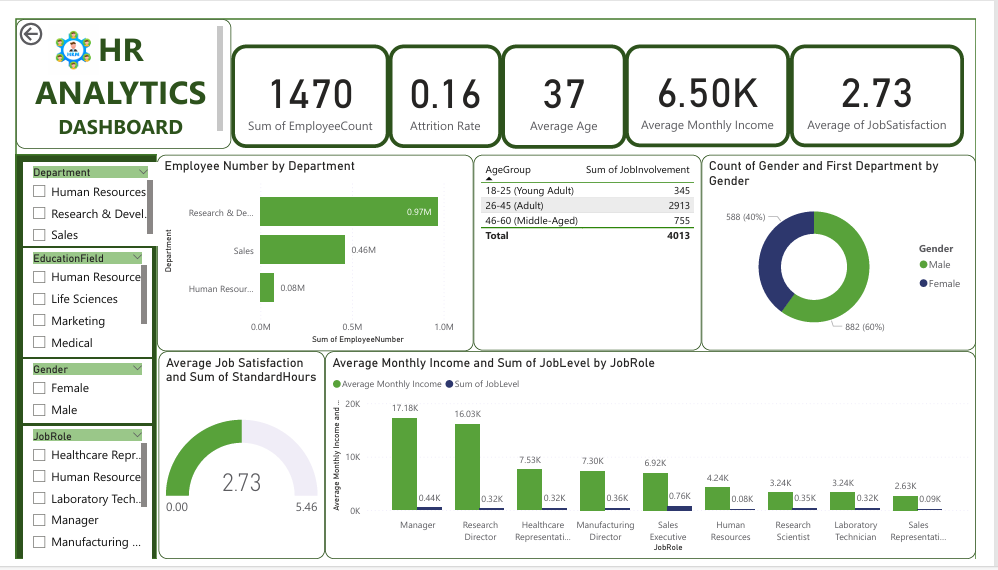

The dashboard page shown, as its layout file describes it:
{"tool":"powerbi","page":{"name":"Page 1","canvas":[1280,720],"ordinal":0},"visuals":[{"type":"shape","box":[0,0,1280,720.6],"z":0},{"type":"card","fields":{"Values":["Sum(HR Analytics Data.EmployeeCount)"]},"box":[287,34,211,138],"z":1000},{"type":"tableEx","title":"Job Involvement by AgeGroup","fields":{"Values":["HR Analytics Data.AgeGroup","Sum(HR Analytics Data.JobInvolvement)"]},"box":[609.8,181.4,304,261],"z":2000},{"type":"card","fields":{"Values":["Avg(HR Analytics Data.Age)"]},"box":[646.8,33.7,166.8,139],"z":3000},{"type":"card","fields":{"Values":["Avg(HR Analytics Data.JobSatisfaction)"]},"box":[1031.7,33.7,232.7,137.6],"z":4000},{"type":"card","fields":{"Values":["HR Analytics Data.Attrition Rate"]},"box":[497,34,151,138],"z":5000},{"type":"barChart","title":"Employee Number by Department","fields":{"Category":["HR Analytics Data.Department"],"Y":["Sum(HR Analytics Data.EmployeeNumber)"]},"box":[188.3,181.4,421.7,261.7],"z":6000},{"type":"donutChart","fields":{"Category":["HR Analytics Data.Gender"],"Y":["CountNonNull(HR Analytics Data.Gender)"]},"box":[913.8,181.4,366.2,261],"z":7000},{"type":"card","fields":{"Values":["HR Analytics Data.Average Monthly Income"]},"box":[812.2,33.7,219.5,137.6],"z":8000},{"type":"clusteredColumnChart","fields":{"Y":["HR Analytics Data.Average Monthly Income","Sum(HR Analytics Data.JobLevel)"],"Category":["HR Analytics Data.JobRole"]},"box":[411.7,443.3,868.3,276.7],"z":9000},{"type":"gauge","fields":{"Y":["HR Analytics Data.Average Job Satisfaction"]},"box":[190,443.3,221.7,276.7],"z":10000},{"type":"shape","box":[0,181.4,188.3,538.3],"z":11000},{"type":"textbox","box":[0,0,287.1,172.9],"z":12000},{"type":"image","box":[37.5,0,77.5,82.5],"z":13000},{"type":"slicer","fields":{"Values":["HR Analytics Data.Department"]},"box":[10.2,191.7,178.5,111.2],"z":14000},{"type":"slicer","fields":{"Values":["HR Analytics Data.EducationField"]},"box":[10.2,305.9,171.2,144.9],"z":15000},{"type":"slicer","fields":{"Values":["HR Analytics Data.Gender"]},"box":[10,453.8,171.2,85],"z":16000},{"type":"slicer","fields":{"Values":["HR Analytics Data.JobRole"]},"box":[10,542.5,171.2,177.5],"z":17000},{"type":"actionButton","box":[0,0,100,40],"z":19000}]}

Visuals, with their boxes in screenshot pixels (x1, y1, x2, y2), scaled from the page's 1280x720 canvas onto the 998x570 screenshot:
shape: BBox(0, 0, 997, 569)
card - Sum(HR Analytics Data.EmployeeCount): BBox(224, 27, 388, 136)
"Job Involvement by AgeGroup" tableEx: BBox(475, 144, 712, 350)
card - Avg(HR Analytics Data.Age): BBox(504, 27, 634, 137)
card - Avg(HR Analytics Data.JobSatisfaction): BBox(804, 27, 986, 136)
card - HR Analytics Data.Attrition Rate: BBox(388, 27, 505, 136)
"Employee Number by Department" barChart: BBox(147, 144, 476, 351)
donutChart - HR Analytics Data.Gender x CountNonNull(HR Analytics Data.Gender): BBox(712, 144, 997, 350)
card - HR Analytics Data.Average Monthly Income: BBox(633, 27, 804, 136)
clusteredColumnChart - HR Analytics Data.Average Monthly Income x Sum(HR Analytics Data.JobLevel): BBox(321, 351, 997, 569)
gauge - HR Analytics Data.Average Job Satisfaction: BBox(148, 351, 321, 569)
shape: BBox(0, 144, 147, 569)
textbox: BBox(0, 0, 224, 137)
image: BBox(29, 0, 90, 65)
slicer - HR Analytics Data.Department: BBox(8, 152, 147, 240)
slicer - HR Analytics Data.EducationField: BBox(8, 242, 141, 357)
slicer - HR Analytics Data.Gender: BBox(8, 359, 141, 427)
slicer - HR Analytics Data.JobRole: BBox(8, 429, 141, 569)
actionButton: BBox(0, 0, 78, 32)
